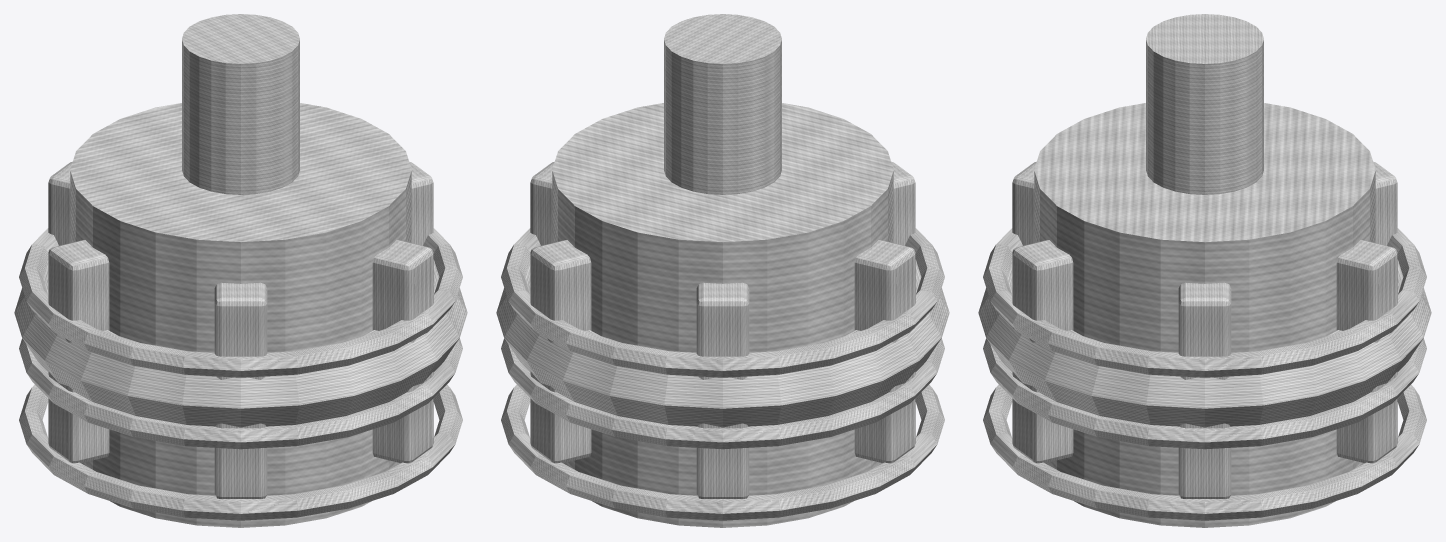
Rendered from item-heat-sink_variant_c.glb.
The picture shows the model from 3 angles, left to right: view 1: azimuth 30°, elevation 25°; view 2: azimuth 150°, elevation 25°; view 3: azimuth 270°, elevation 25°; orthographic projection.
Visible parts, largest first — view 1: Mechanical core.002, Rotor ring.003, Shaft.002, Variant collar.002, Variant collar, Variant collar.001, Cooling fin.016, Cooling fin.018, Cooling fin.017, Cooling fin.013, Cooling fin.015; view 2: Mechanical core.002, Rotor ring.003, Shaft.002, Variant collar.002, Variant collar, Variant collar.001, Cooling fin.014, Cooling fin.016, Cooling fin.015, Cooling fin.013, Cooling fin.017; view 3: Mechanical core.002, Rotor ring.003, Shaft.002, Variant collar.002, Variant collar, Variant collar.001, Cooling fin.014, Cooling fin.018, Cooling fin.013, Cooling fin.015, Cooling fin.017.
Boxes of the visible parts, bbox=[...] form: Mechanical core.002: bbox=[70, 103, 411, 527]; Rotor ring.003: bbox=[14, 259, 467, 427]; Shaft.002: bbox=[182, 14, 299, 194]; Variant collar.002: bbox=[19, 228, 462, 377]; Variant collar: bbox=[19, 384, 462, 520]; Variant collar.001: bbox=[19, 338, 462, 449]; Cooling fin.016: bbox=[48, 240, 109, 463]; Cooling fin.018: bbox=[372, 240, 433, 463]; Cooling fin.017: bbox=[214, 282, 267, 498]; Cooling fin.013: bbox=[409, 162, 433, 245]; Cooling fin.015: bbox=[48, 162, 72, 245]; Mechanical core.002: bbox=[552, 103, 893, 527]; Rotor ring.003: bbox=[496, 259, 949, 427]; Shaft.002: bbox=[664, 14, 781, 194]; Variant collar.002: bbox=[501, 228, 944, 377]; Variant collar: bbox=[501, 384, 944, 520]; Variant collar.001: bbox=[501, 338, 944, 449]; Cooling fin.014: bbox=[530, 240, 591, 463]; Cooling fin.016: bbox=[854, 240, 915, 463]; Cooling fin.015: bbox=[696, 282, 749, 498]; Cooling fin.013: bbox=[530, 162, 554, 245]; Cooling fin.017: bbox=[891, 162, 915, 245]; Mechanical core.002: bbox=[1034, 103, 1375, 527]; Rotor ring.003: bbox=[978, 259, 1431, 427]; Shaft.002: bbox=[1146, 14, 1263, 194]; Variant collar.002: bbox=[983, 228, 1426, 377]; Variant collar: bbox=[983, 384, 1426, 520]; Variant collar.001: bbox=[983, 338, 1426, 449]; Cooling fin.014: bbox=[1336, 240, 1397, 463]; Cooling fin.018: bbox=[1012, 240, 1073, 463]; Cooling fin.013: bbox=[1178, 282, 1231, 498]; Cooling fin.015: bbox=[1373, 162, 1397, 245]; Cooling fin.017: bbox=[1012, 162, 1036, 245].
Size of what is drawn, in the model's own units: 0.69 by 0.7 by 0.69.
4 materials, 4 textured.
